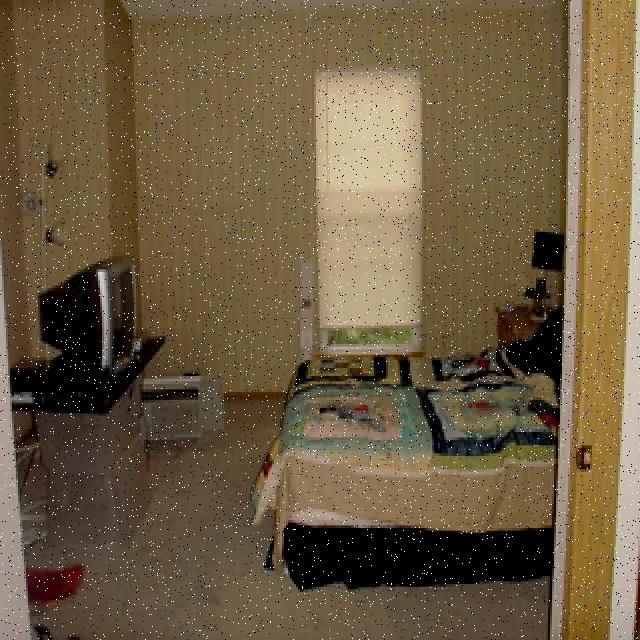bed: (286, 309, 567, 587)
